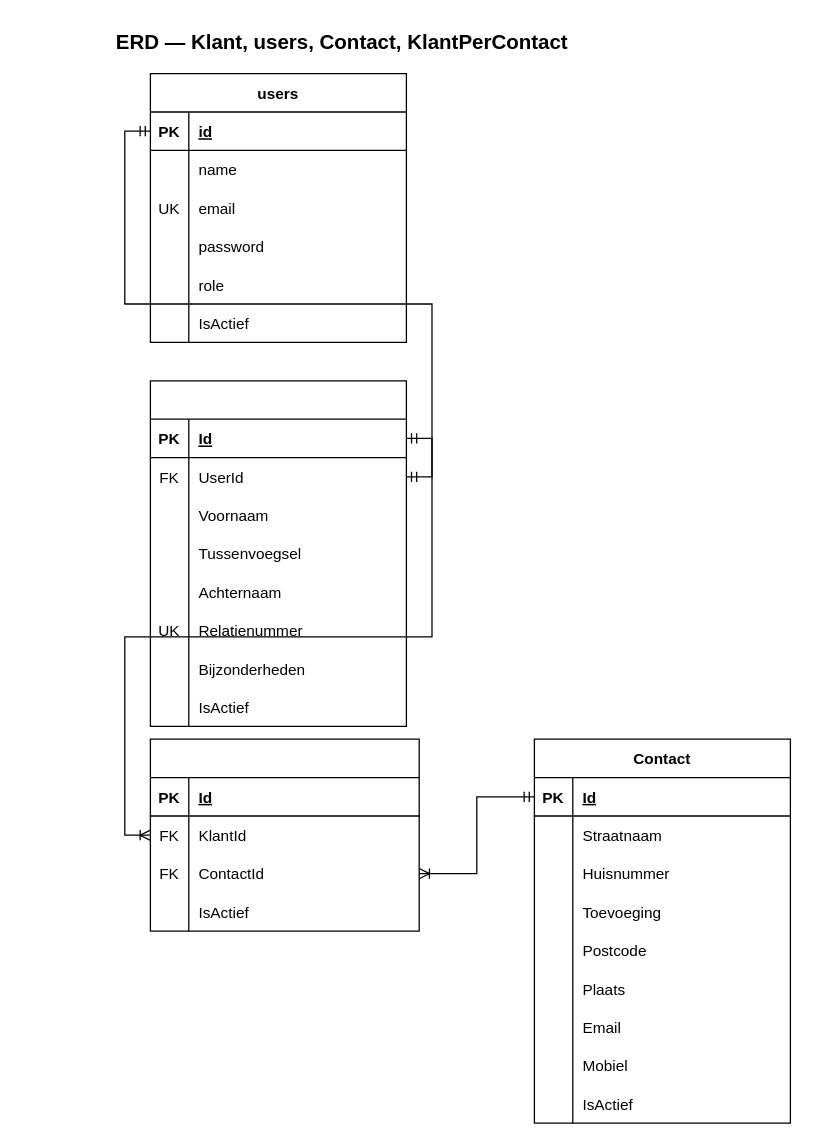
Some shapes in this 813 by 1146 pixel diagram are drawn without their labels. Here are the shapes that lost their labels. From the top down, the box of each, then its label:
(149, 380, 406, 726): Klant
(149, 738, 419, 931): KlantPerContact
